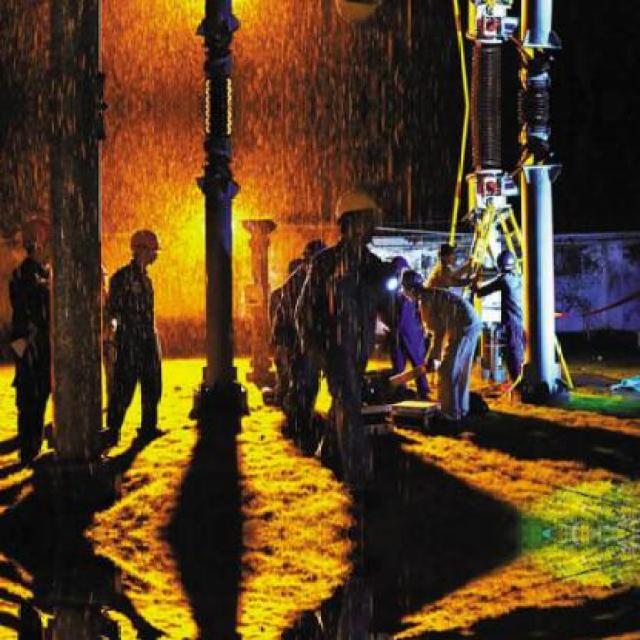helmet: (329, 180, 378, 248), (329, 0, 380, 34), (125, 224, 162, 264), (491, 247, 515, 276), (400, 270, 422, 299)
